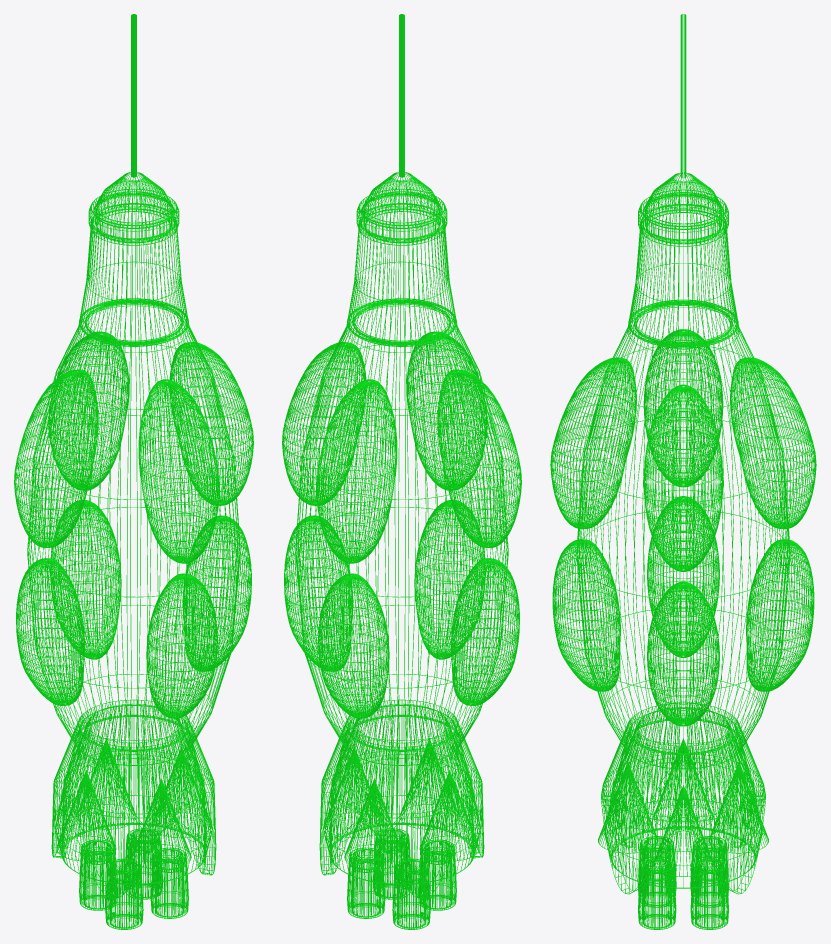
The model's file is virus-missile-wireframe.glb.
3 views of the same model, side by side, from view 1: azimuth 30°, elevation 25°; view 2: azimuth 150°, elevation 25°; view 3: azimuth 270°, elevation 25° (orthographic).
Parts seen in each view (by area): view 1: chassis technical wire, binary-agent-pods technical wire, main-thrusters technical wire, atmospheric-resistance-sensors technical wire; view 2: chassis technical wire, binary-agent-pods technical wire, main-thrusters technical wire, atmospheric-resistance-sensors technical wire; view 3: binary-agent-pods technical wire, chassis technical wire, atmospheric-resistance-sensors technical wire, main-thrusters technical wire.
Boxes of the visible parts, box(x1,y1,x2,y2) form: chassis technical wire: box(27, 14, 240, 898); binary-agent-pods technical wire: box(14, 331, 253, 718); main-thrusters technical wire: box(79, 828, 188, 929); atmospheric-resistance-sensors technical wire: box(56, 739, 211, 869); chassis technical wire: box(295, 14, 508, 898); binary-agent-pods technical wire: box(282, 331, 521, 718); main-thrusters technical wire: box(347, 828, 456, 929); atmospheric-resistance-sensors technical wire: box(324, 739, 479, 869); binary-agent-pods technical wire: box(550, 329, 816, 726); chassis technical wire: box(576, 14, 790, 894); atmospheric-resistance-sensors technical wire: box(598, 738, 768, 876); main-thrusters technical wire: box(638, 836, 728, 929).
Bounding box in the file's own units: 1.78 × 6.61 × 1.78.
